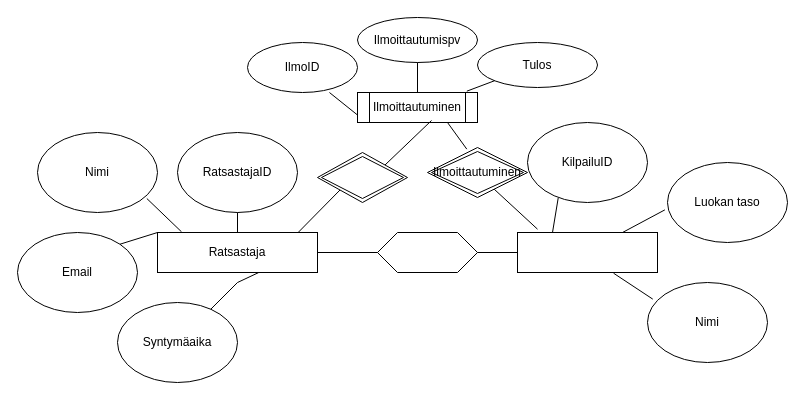
The diagram is 805 pixels wide and 400 high, and some of its shapes have lost their labels. The centre of each missing label's shape, as x and y in pixels:
"Ilmoittautuu" goes at (362,177).
"Kilpailee" goes at (427,252).
"Kilpailut" goes at (587,252).
